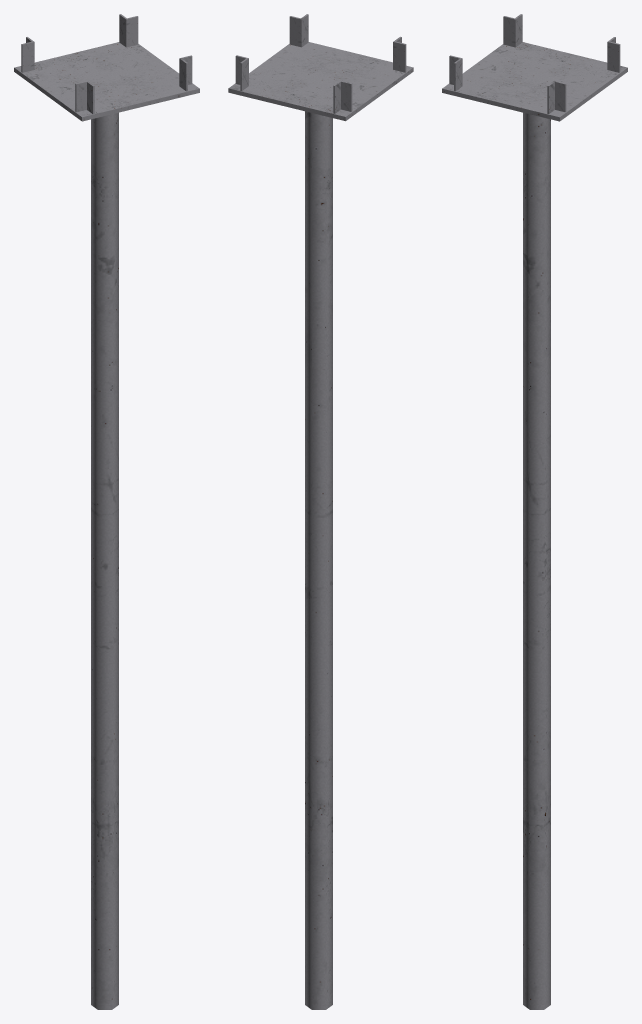
Rendered from 四向支撑头.FBX.
3 renders of one model, left to right at view 1: azimuth 30°, elevation 25°; view 2: azimuth 150°, elevation 25°; view 3: azimuth 330°, elevation 25°, orthographic.
Parts seen in each view (by area): view 1: 四向支撑头; view 2: 四向支撑头; view 3: 四向支撑头.
Boxes of the visible parts, bbox=[...] form: 四向支撑头: bbox=[14, 14, 199, 1009]; 四向支撑头: bbox=[228, 14, 413, 1009]; 四向支撑头: bbox=[442, 14, 627, 1009].
Bounding box in the file's own units: 19.69 × 153 × 19.69.
1 material, 1 textured.
